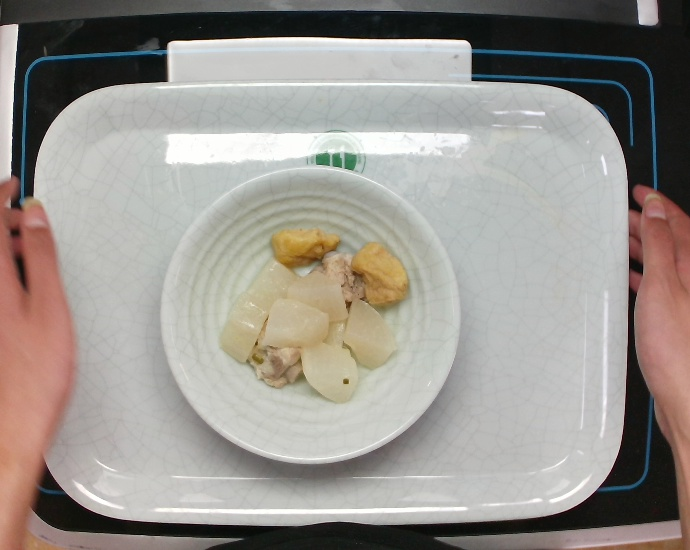JYsf-Xiao_Tang_Wan: (156, 164, 461, 463)
